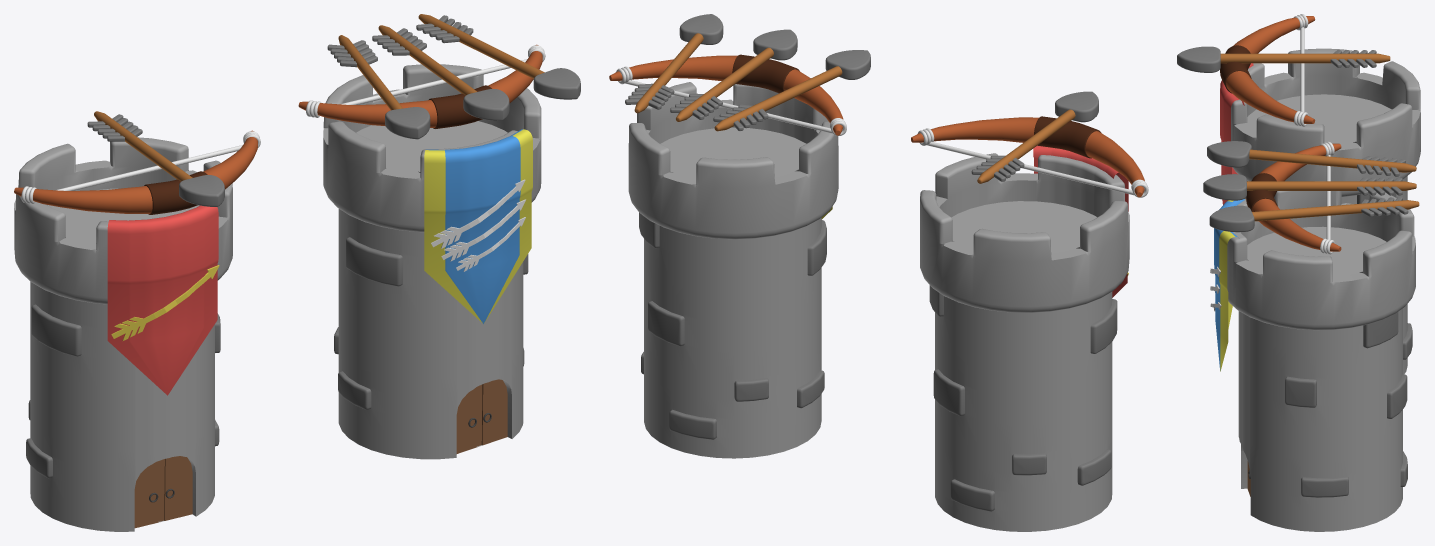
The model's file is Bow and Arrow tower 2.fbx.
The picture shows the model from 3 angles, left to right: view 1: azimuth 30°, elevation 25°; view 2: azimuth 150°, elevation 25°; view 3: azimuth 270°, elevation 25°; orthographic projection. The views are drawn at different scales.
Visible parts, largest first — view 1: Cylinder.007, Cylinder.006, Cylinder, Cylinder.008, Cube.015, Cube.007, Cube.013, Cube.014, Cylinder.001, Cylinder.009; view 2: Cylinder.006, Cylinder.007, Cylinder, Cylinder.008, Cube.014, Cube.007, Cube.013, Cube.015, Cylinder.001; view 3: Cylinder.007, Cylinder.006, Cylinder, Cube.007, Cube.015, Cube.013, Cube.014, Cylinder.008, Cylinder.001.
Part boxes in pixels (x1,y1,x2,y2): Cylinder.007: [323, 64, 541, 459]; Cylinder.006: [14, 137, 232, 531]; Cylinder: [14, 130, 260, 214]; Cylinder.008: [298, 44, 545, 128]; Cube.015: [416, 14, 580, 99]; Cube.007: [87, 111, 224, 206]; Cube.013: [372, 25, 509, 120]; Cube.014: [327, 35, 430, 139]; Cylinder.001: [56, 145, 242, 190]; Cylinder.009: [340, 59, 527, 104]; Cylinder.006: [920, 145, 1129, 531]; Cylinder.007: [628, 82, 838, 458]; Cylinder: [911, 116, 1148, 197]; Cylinder.008: [609, 54, 846, 135]; Cube.014: [713, 50, 870, 131]; Cube.007: [971, 91, 1098, 183]; Cube.013: [670, 29, 797, 121]; Cube.015: [625, 14, 723, 113]; Cylinder.001: [926, 141, 1133, 195]; Cylinder.007: [1210, 181, 1415, 531]; Cylinder.006: [1220, 48, 1420, 374]; Cylinder: [1220, 14, 1315, 126]; Cube.007: [1177, 46, 1390, 72]; Cube.015: [1209, 196, 1419, 232]; Cube.013: [1203, 174, 1416, 200]; Cube.014: [1207, 141, 1416, 176]; Cylinder.008: [1246, 141, 1341, 254]; Cylinder.001: [1300, 27, 1304, 126].
Size of the model in its own units: 1312 by 832 by 578.
